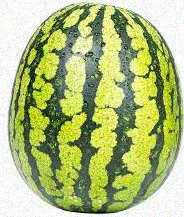watermelon: (10, 2, 182, 215)
